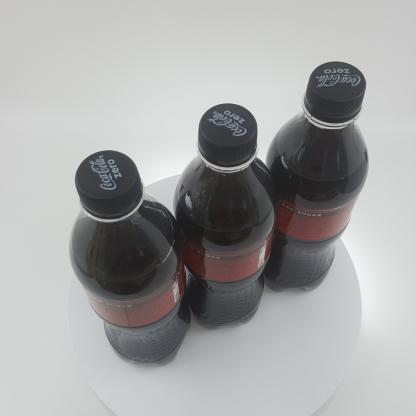------500ML: (69, 150, 191, 367), (260, 61, 369, 293), (173, 103, 278, 330)
